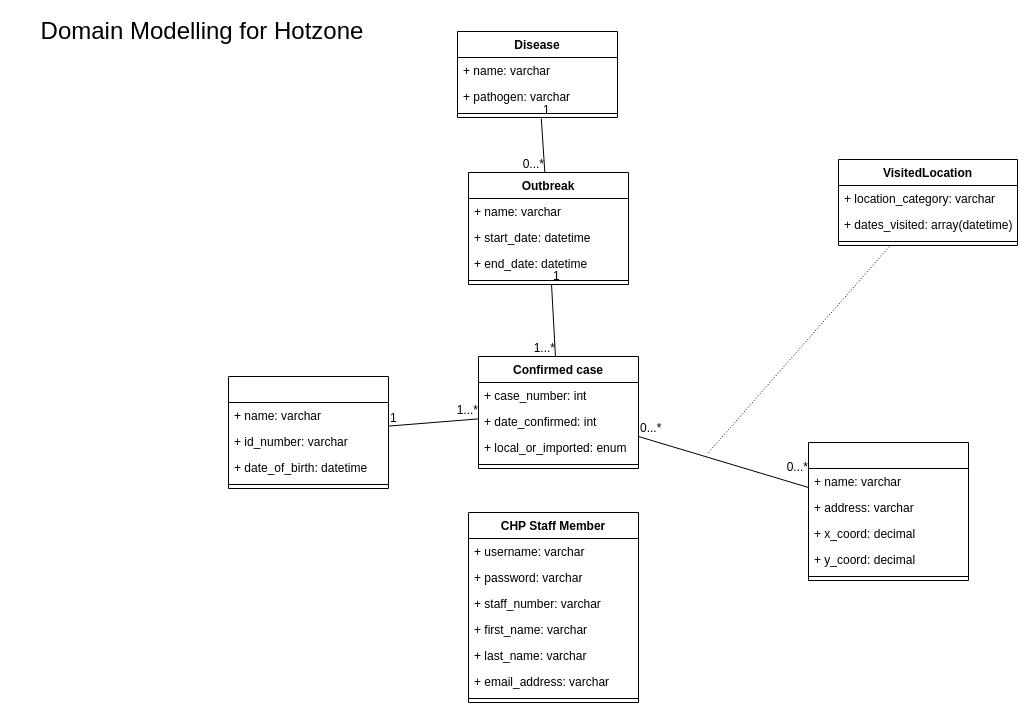
Some shapes in this 1035 by 720 pixel diagram are drawn without their labels. Each missing label, with the box of its shape:
Location: (808, 442, 968, 580)
Patient: (228, 376, 388, 488)
